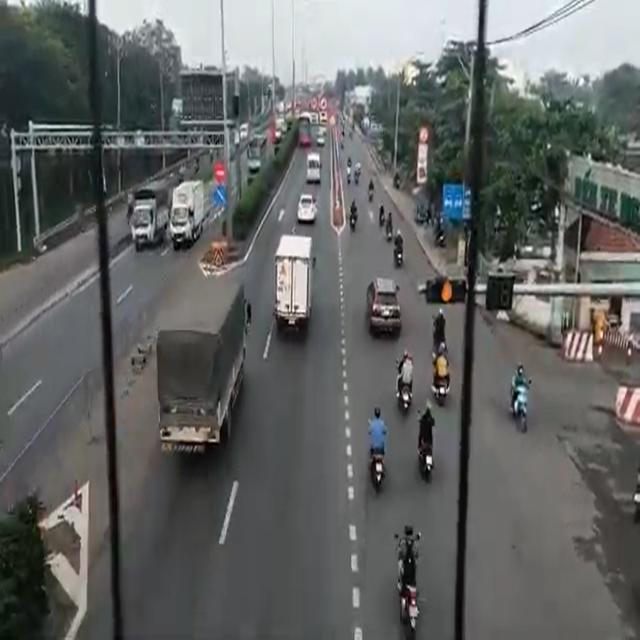bus: (298, 117, 311, 148)
car: (369, 273, 399, 336), (300, 190, 314, 224), (308, 153, 319, 183)
motorbike: (396, 532, 421, 630), (507, 366, 527, 426), (398, 354, 414, 420), (374, 402, 386, 484), (434, 342, 449, 401), (424, 412, 435, 484)
truck: (156, 267, 246, 453), (276, 232, 310, 340), (129, 184, 165, 250), (174, 180, 204, 242)
